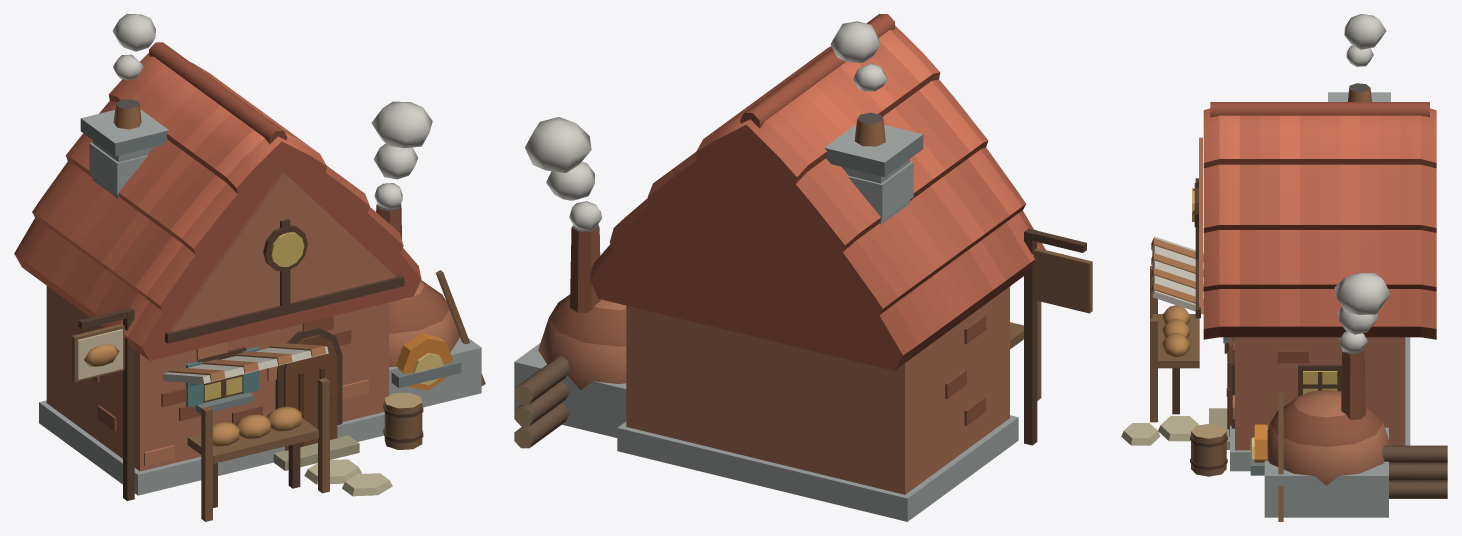
The model's file is bakery.glb.
The picture shows the model from 3 angles, left to right: view 1: azimuth 30°, elevation 25°; view 2: azimuth 150°, elevation 25°; view 3: azimuth 270°, elevation 25°; orthographic projection. The views are drawn at different scales.
Visible parts, largest first — view 1: body, body_nl; view 2: body, body_nl; view 3: body, body_nl.
Part boxes in pixels (x1,y1,x2,y2): body: (14,42,485,521); body_nl: (112,14,432,209); body: (514,14,1092,521); body_nl: (525,21,887,230); body: (1121,83,1447,521); body_nl: (1334,14,1390,352).
Bounding box in the file's own units: 3.53 × 3.24 × 2.5.
